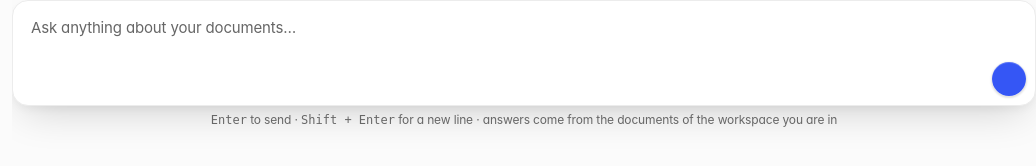
Test case: ChatComposer › an empty message explains itself instead of sending
The image size is (1036, 166).
Click the button named "Send" at (1009, 79), box x1=991 y1=61 x2=1027 y2=97
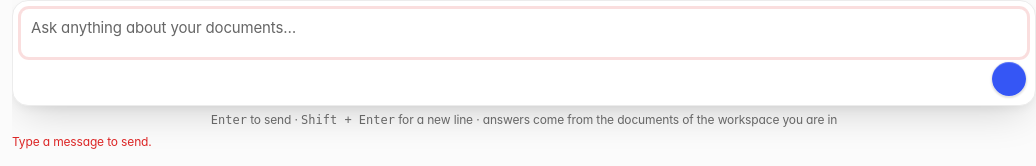
Expected: the text "Type a message to send." is shown, x1=12 y1=134 x2=152 y2=149
